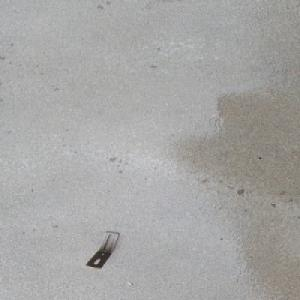MetalPart: (84, 231, 121, 269)
